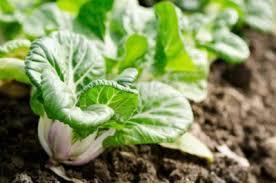Healthy-Pechay: (17, 9, 206, 149)
